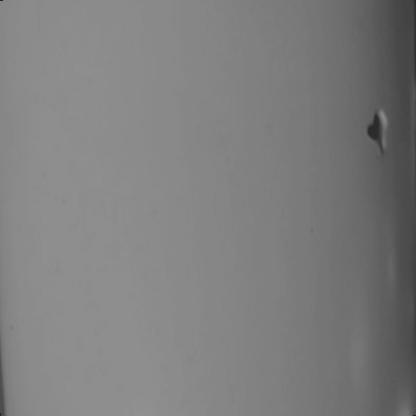kongdong: (363, 106, 392, 158)
